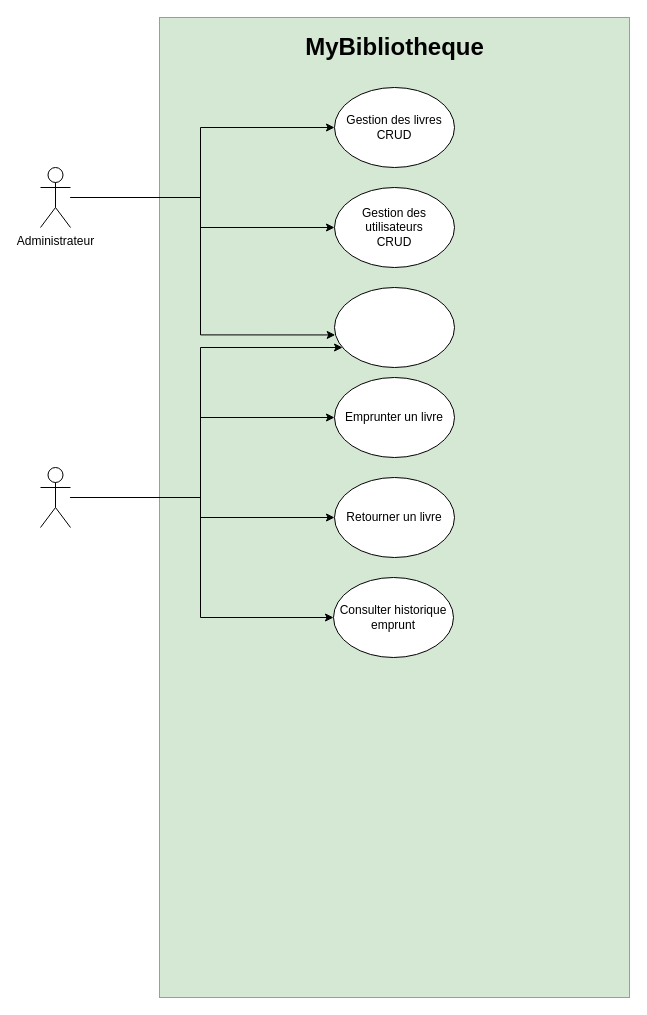
This 647x1015 diagram has some shape labels left out. Here are the shapes that lost their labels. From the top down, the box of each, then its label:
(334, 286, 454, 368): Rechercher un livre
(40, 466, 70, 528): Client
